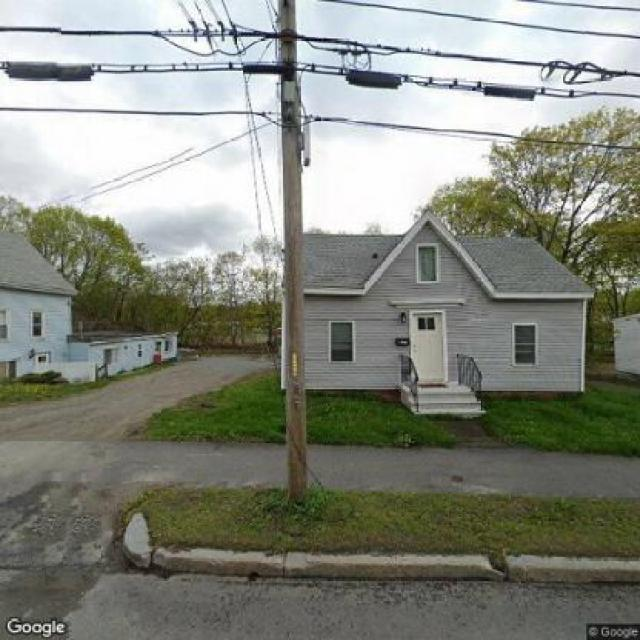pole: (232, 0, 358, 500)
